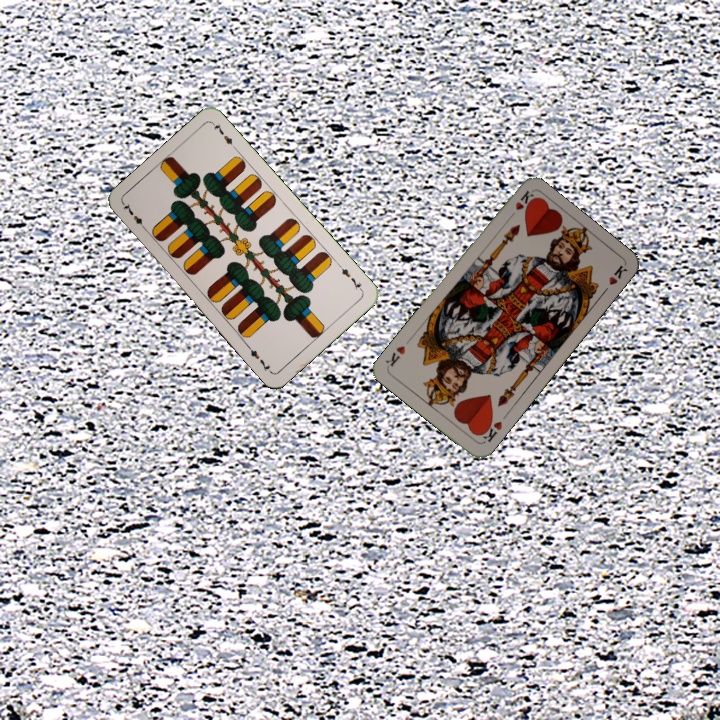E7: (119, 199, 150, 233), (335, 260, 365, 294)
HK: (504, 187, 536, 223), (476, 415, 505, 445)
